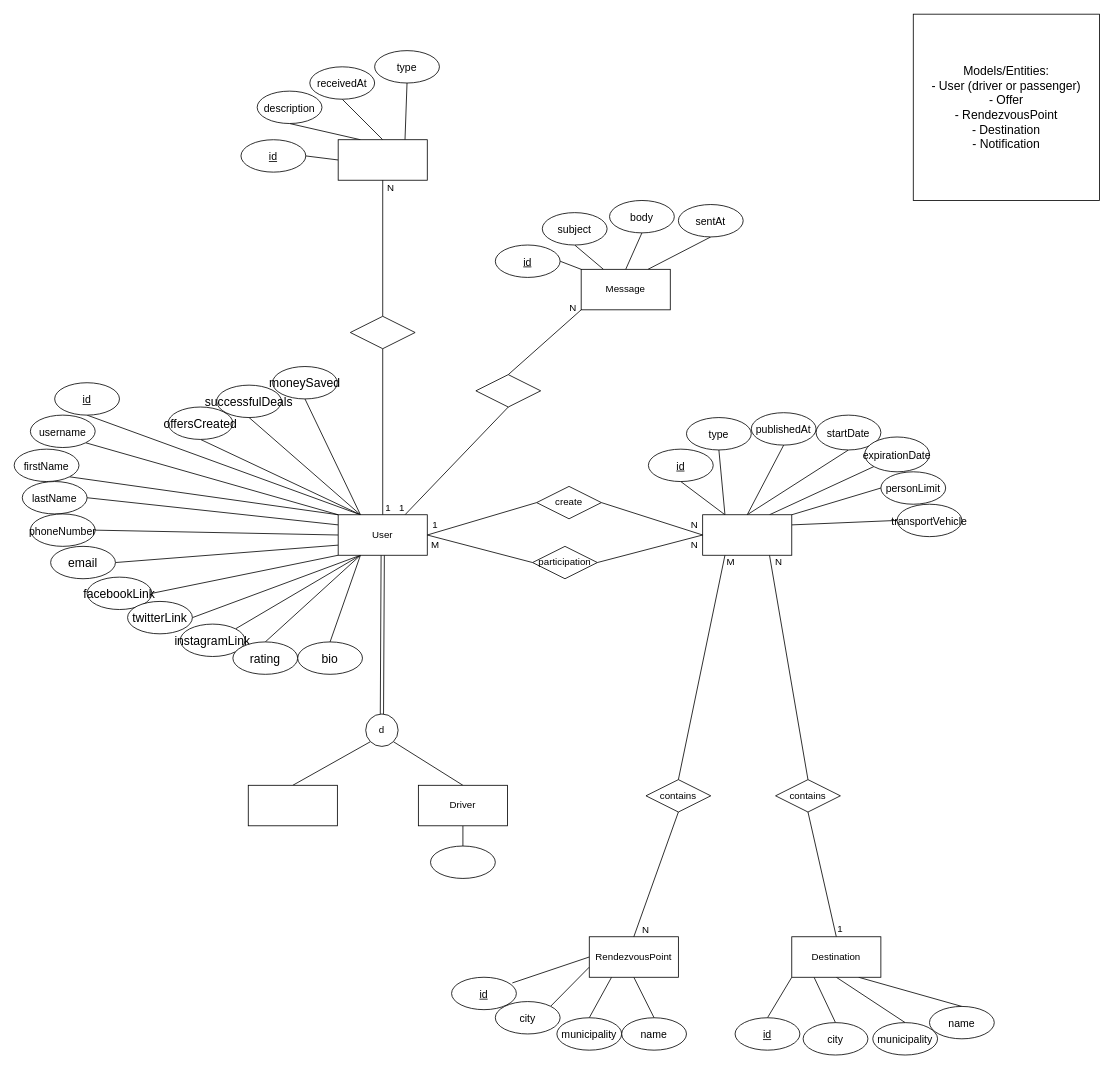
Some shapes in this 1114 by 1069 pixel diagram are drawn without their labels. Each missing label, with the box of its shape:
Notification: (337, 139, 427, 180)
Offer: (702, 514, 792, 555)
Passenger: (247, 784, 337, 826)
receive: (350, 315, 415, 349)
send: (475, 374, 541, 407)
vehicleModel: (430, 845, 495, 878)
